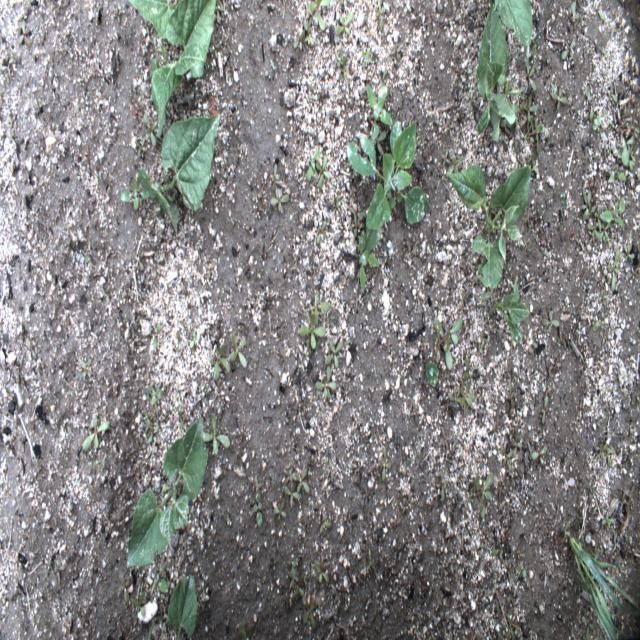crop: (441, 0, 547, 288), (127, 0, 224, 137), (125, 414, 208, 569), (140, 96, 221, 235), (473, 276, 531, 347), (165, 570, 199, 639)
weed: (347, 117, 426, 247), (566, 531, 638, 639), (434, 318, 463, 371), (204, 405, 232, 459), (467, 470, 495, 519), (298, 315, 328, 359), (358, 233, 378, 294), (81, 414, 111, 454), (120, 174, 150, 213), (364, 84, 392, 125), (208, 336, 231, 382), (314, 363, 338, 404), (323, 338, 352, 370), (301, 596, 326, 630), (308, 0, 333, 33), (150, 560, 172, 596), (228, 331, 248, 370), (614, 135, 636, 170), (307, 288, 331, 320), (288, 573, 309, 609), (606, 246, 622, 293), (360, 537, 378, 577), (602, 197, 626, 227), (376, 443, 393, 485), (315, 151, 332, 193), (509, 426, 531, 458), (305, 146, 324, 181), (231, 618, 261, 640), (313, 560, 336, 587), (582, 190, 598, 228), (251, 488, 265, 530), (140, 118, 158, 150), (132, 583, 146, 623), (118, 570, 132, 609), (541, 307, 560, 335), (460, 356, 480, 382), (348, 208, 364, 240), (334, 12, 354, 37), (498, 443, 514, 473), (173, 387, 184, 430), (270, 190, 290, 213), (459, 382, 476, 409), (539, 389, 551, 427), (302, 14, 315, 49), (0, 55, 18, 80), (591, 0, 610, 23), (336, 44, 348, 80), (284, 482, 302, 506), (19, 13, 31, 48), (373, 0, 385, 34), (437, 466, 448, 502), (587, 310, 606, 330), (550, 89, 568, 110), (506, 380, 519, 409), (295, 469, 310, 494), (424, 363, 439, 388), (559, 40, 575, 63), (530, 443, 548, 463), (147, 386, 165, 406), (371, 122, 384, 149), (274, 498, 288, 523), (582, 608, 594, 637), (319, 512, 333, 536), (315, 219, 327, 246), (609, 167, 627, 185), (504, 585, 518, 608), (152, 320, 162, 351), (404, 241, 418, 263), (597, 220, 609, 245), (327, 459, 338, 486), (78, 359, 92, 380), (140, 408, 154, 429), (145, 618, 159, 639), (271, 161, 281, 190), (506, 616, 518, 639), (606, 436, 614, 470), (440, 428, 451, 452), (285, 462, 298, 482), (610, 92, 626, 108), (624, 241, 635, 264), (503, 556, 512, 584), (26, 334, 36, 359), (133, 139, 146, 158), (189, 328, 201, 348), (132, 251, 145, 269), (597, 435, 606, 461), (586, 92, 594, 121), (210, 34, 221, 55), (560, 521, 570, 544), (570, 0, 579, 25), (294, 31, 304, 53), (601, 511, 615, 526), (247, 472, 258, 491), (593, 113, 604, 132), (286, 552, 302, 565), (484, 525, 491, 554), (493, 541, 504, 559), (517, 567, 529, 583), (332, 194, 342, 213), (361, 47, 371, 66), (149, 424, 159, 443), (479, 328, 488, 349), (556, 335, 570, 348), (99, 285, 109, 303), (496, 482, 507, 498), (393, 42, 402, 61), (600, 330, 610, 347), (413, 398, 419, 426), (451, 152, 463, 166), (401, 496, 410, 514), (628, 267, 637, 285), (176, 330, 183, 353), (455, 473, 467, 486), (597, 293, 609, 306), (449, 388, 458, 405), (308, 82, 316, 101), (5, 114, 14, 130), (392, 194, 401, 210), (547, 75, 556, 91), (601, 131, 611, 145), (268, 56, 276, 73), (559, 189, 566, 208), (115, 6, 122, 25), (529, 501, 540, 513), (630, 124, 640, 137), (504, 364, 512, 380), (291, 570, 297, 590), (490, 423, 503, 432), (403, 455, 409, 474), (34, 336, 40, 354), (590, 227, 596, 245), (203, 382, 210, 397), (475, 343, 484, 354), (600, 66, 607, 80), (339, 0, 349, 9), (599, 414, 607, 423), (600, 46, 607, 56), (532, 340, 539, 350), (609, 119, 615, 129), (637, 244, 640, 263), (431, 242, 435, 255)
